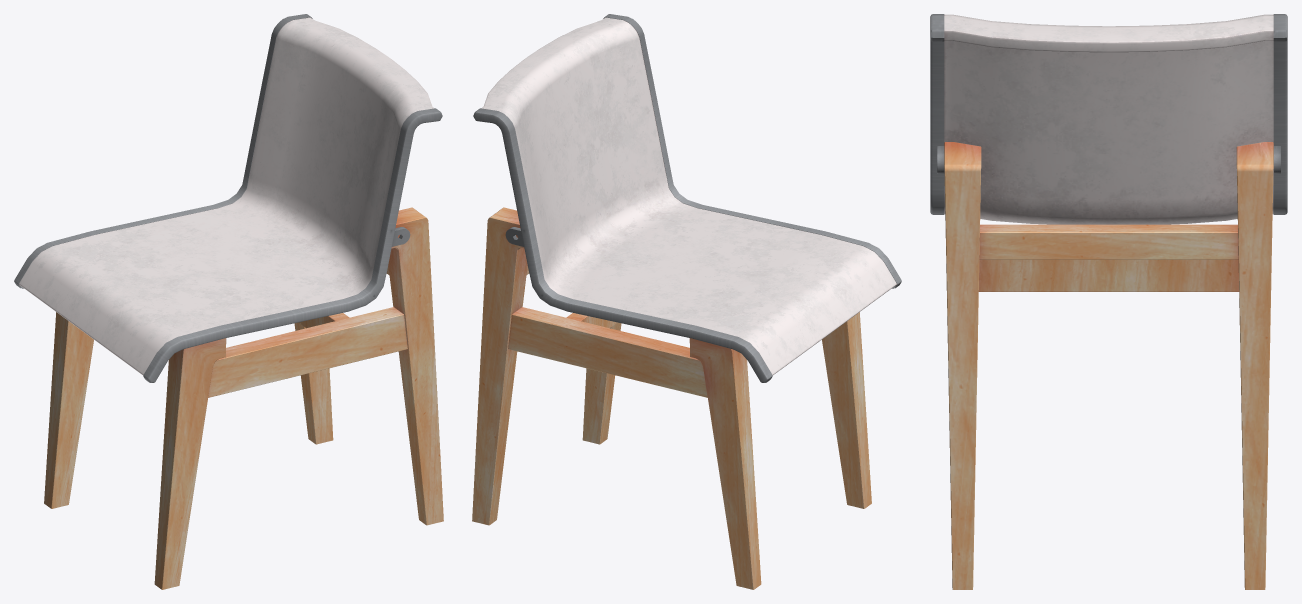
Rendered from Chair_01.fbx.
3 renders of one model, left to right at view 1: azimuth 30°, elevation 25°; view 2: azimuth 150°, elevation 25°; view 3: azimuth 270°, elevation 25°, orthographic. The views are drawn at different scales.
Parts seen in each view (by area): view 1: chair_01; view 2: chair_01; view 3: chair_01.
Boxes of the visible parts, left/top/right/bottom form: chair_01: left=14, top=14, right=443, bottom=589; chair_01: left=472, top=14, right=901, bottom=589; chair_01: left=930, top=14, right=1287, bottom=589.
Bounding box in the file's own units: 81.08 × 105 × 61.08.
